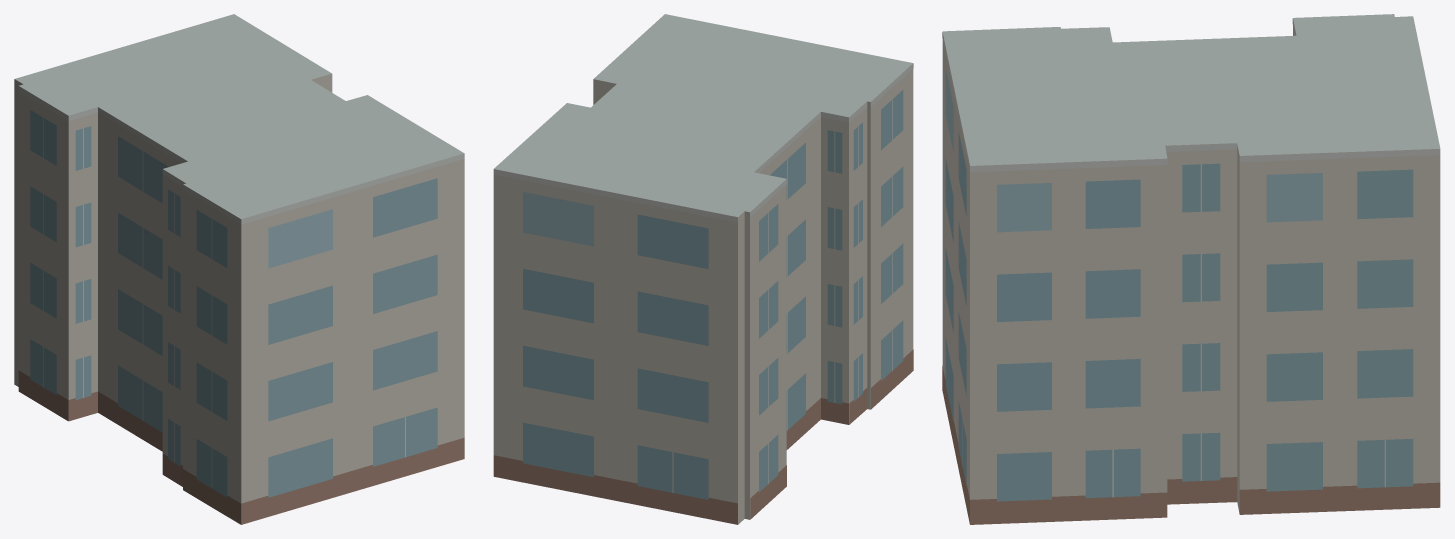
Rendered from survey-upis-33017600.glb.
3 views of the same model, side by side, from view 1: azimuth 30°, elevation 25°; view 2: azimuth 150°, elevation 25°; view 3: azimuth 270°, elevation 25° (orthographic). The views are drawn at different scales.
Parts seen in each view (by area): view 1: survey-upis-33017600.tmp; view 2: survey-upis-33017600.tmp; view 3: survey-upis-33017600.tmp.
Boxes of the visible parts, <box> form: survey-upis-33017600.tmp: <box>14,14,464,524</box>; survey-upis-33017600.tmp: <box>493,14,913,524</box>; survey-upis-33017600.tmp: <box>942,14,1440,524</box>.
Size of the model in its own units: 12.63 by 13.9 by 17.49.
